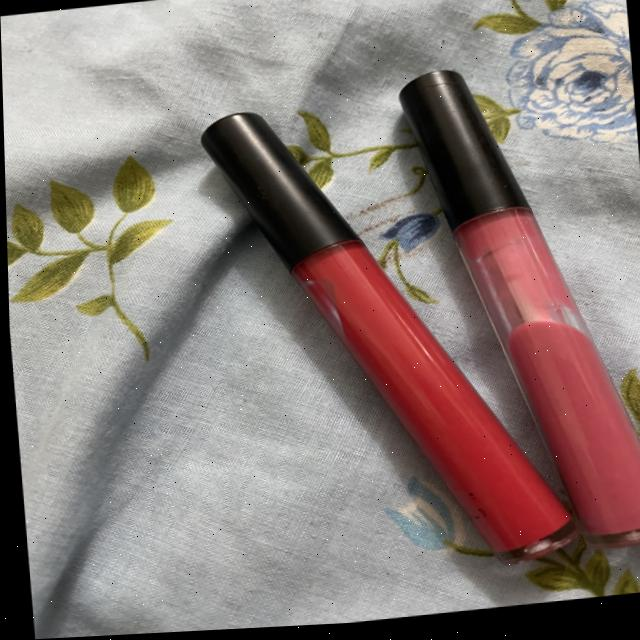lip gloss: (174, 46, 640, 601), (350, 31, 640, 568), (171, 78, 435, 624)
